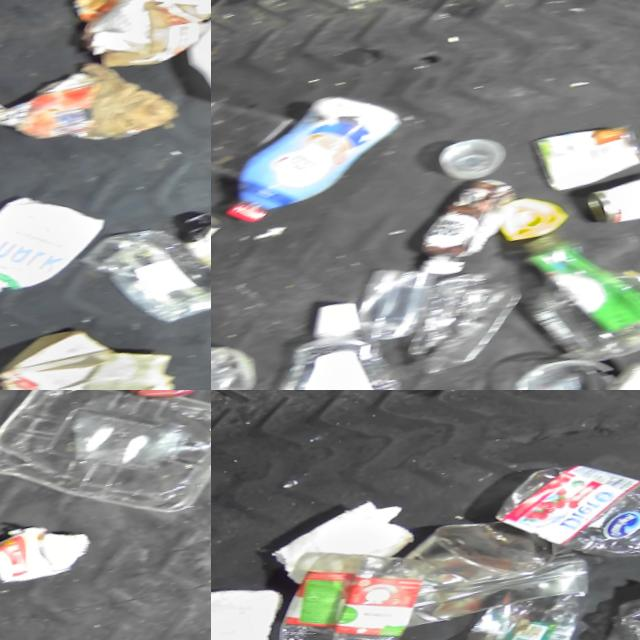can: (384, 492, 594, 627), (522, 109, 640, 193), (574, 155, 640, 227), (77, 390, 211, 411), (211, 196, 234, 276)
non_white_jug: (476, 430, 640, 589)
plastic_bottle: (245, 525, 455, 640), (235, 285, 404, 390), (441, 582, 599, 640)
